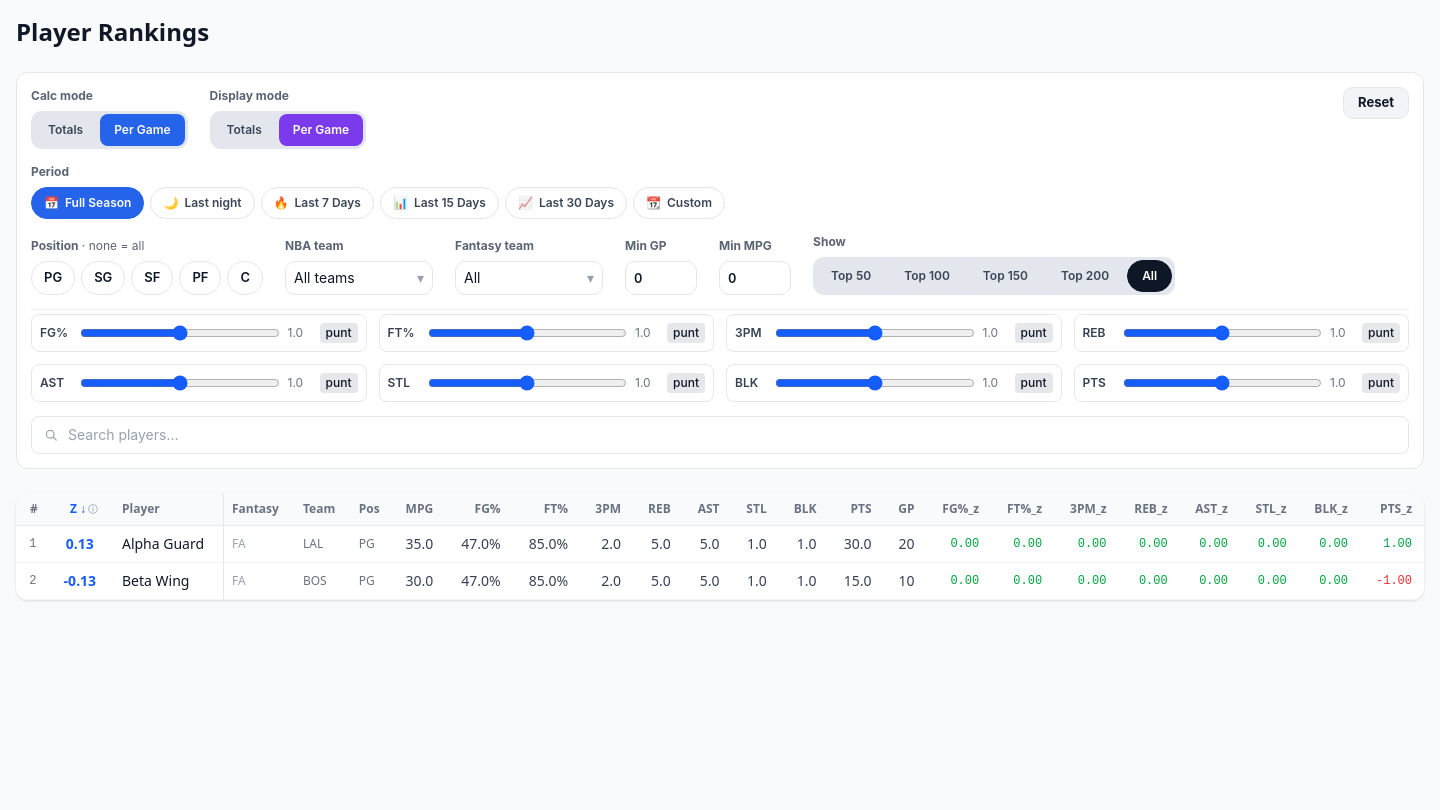
Test case: PlayerRankings page › filters to the NBA teams you search for, and keeps overall rank
The image size is (1440, 810).
Check: the text "Beta Wing" is shown, box [122,571,190,590]
Click the button "All teams ▾" at {"x": 359, "y": 278}, box [285,261,433,295]
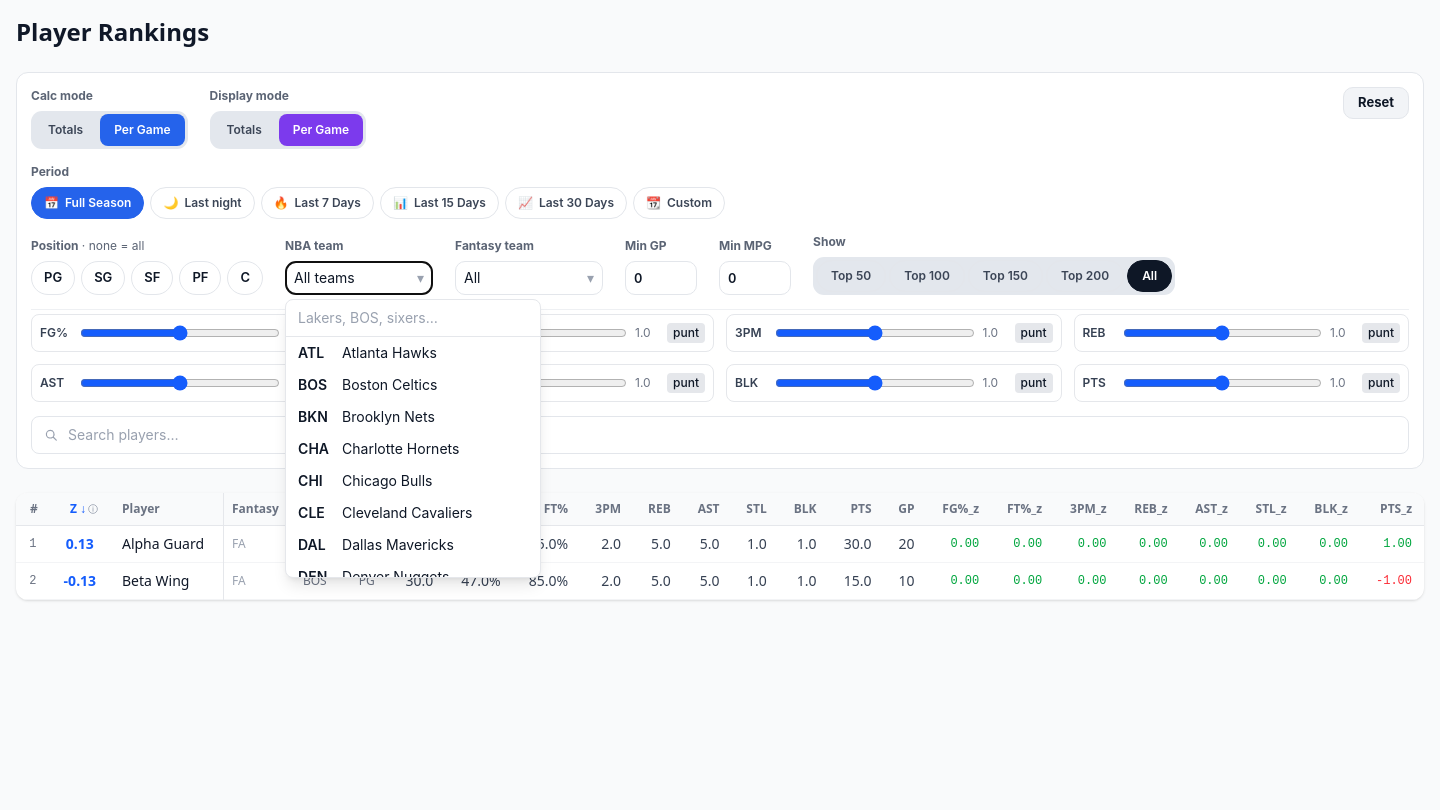
Type "celtics" into the search field named "Search NBA teams" at {"x": 413, "y": 318}, box [286,300,540,337]
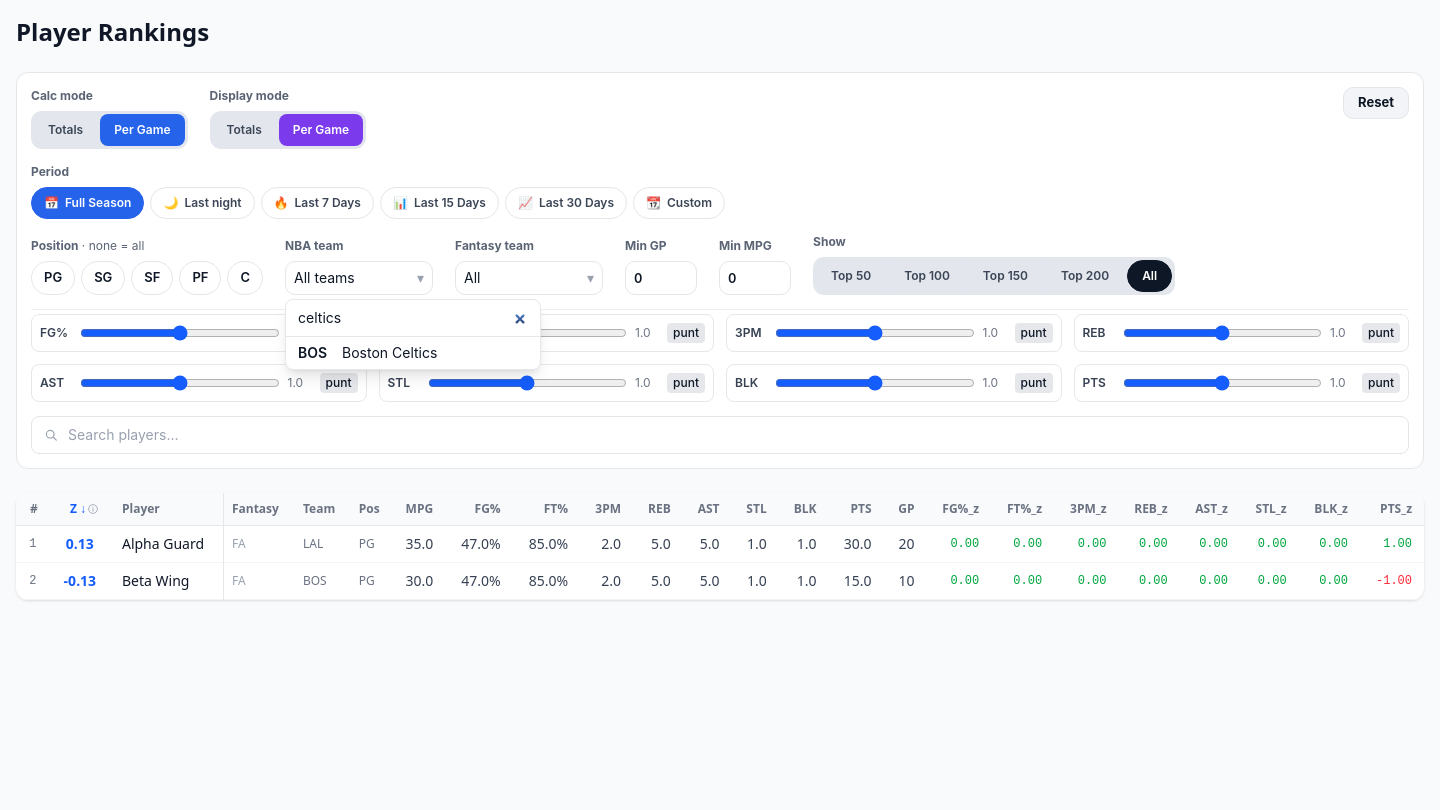
Click the option "BOS Boston Celtics" at {"x": 413, "y": 353}, box [286,337,540,369]
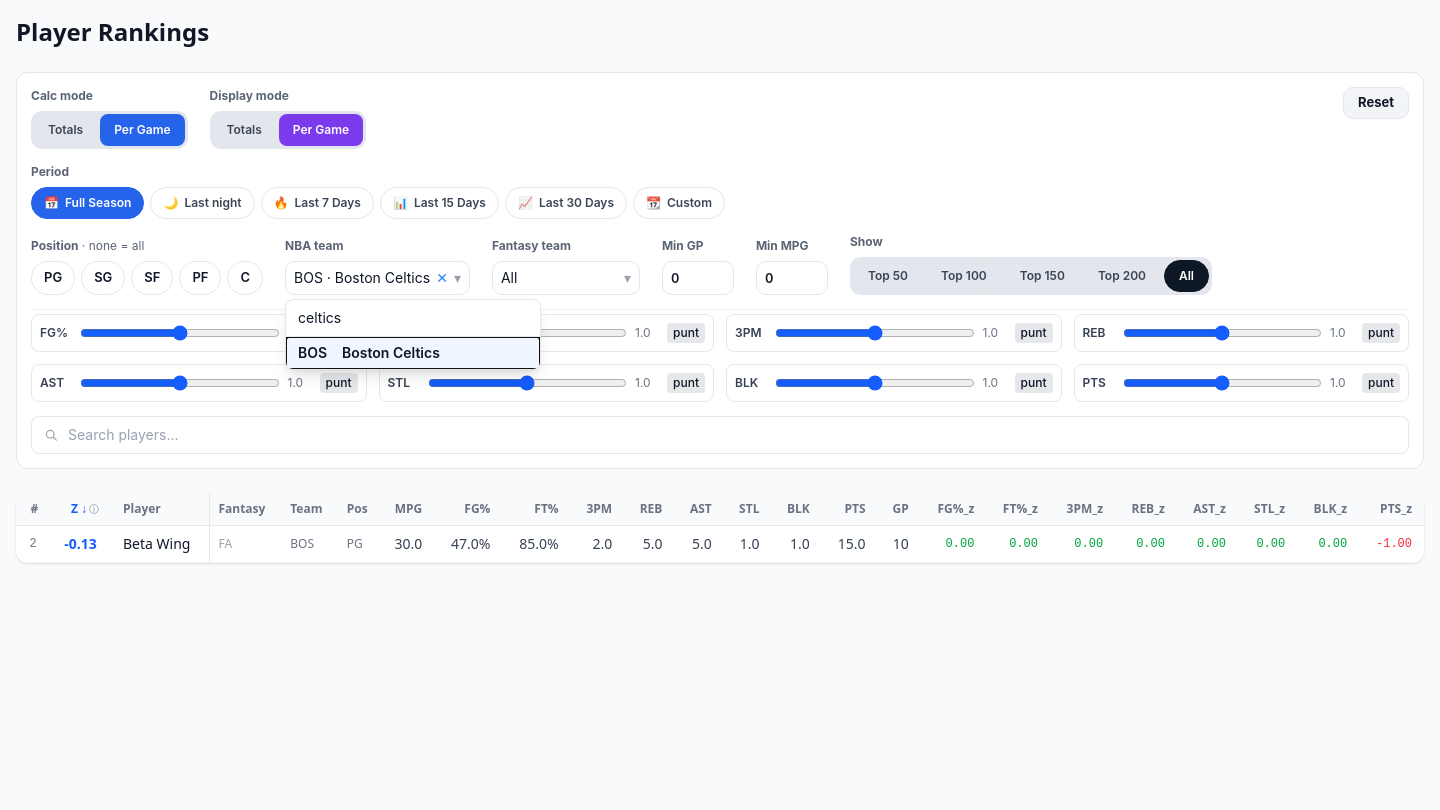
Check: the cell "2" is shown, box [16,526,50,562]
Check: the text "Alpha Guard" is gone
Check: the button "BOS · Boston Celtics ✕ ▾" is shown, box [285,261,470,295]
